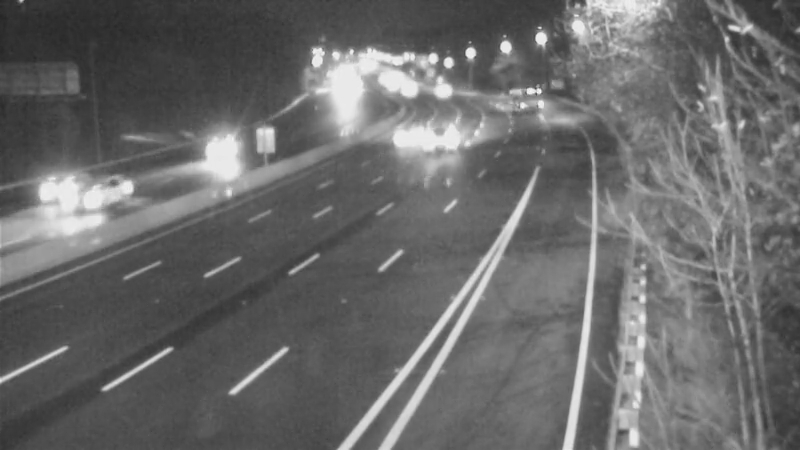vehicle: (16, 148, 96, 228), (53, 152, 133, 232), (411, 65, 461, 115), (380, 68, 430, 118), (499, 72, 549, 122), (389, 106, 439, 156), (413, 115, 463, 165), (192, 122, 242, 172)
